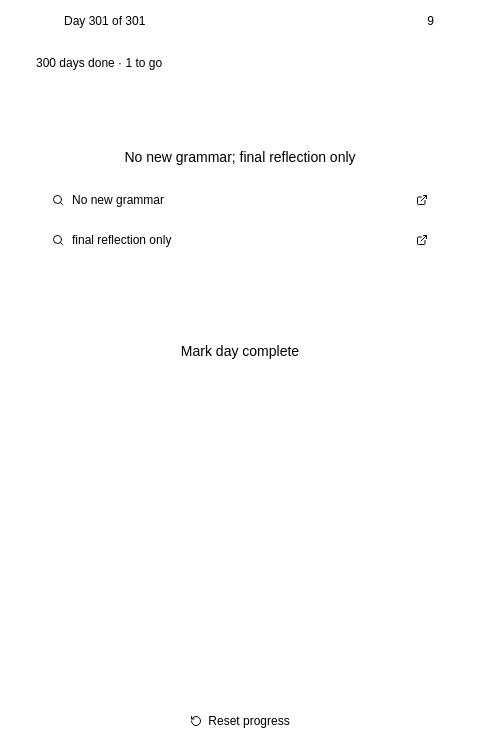
Test case: kwiziq module output › finished plan
The width and height of the screenshot is (481, 745).
What coordinates should you click on to do the following:
click the button "Mark day complete"
I would click on:
 (240, 351)
Its box is 16,327 -> 464,375.
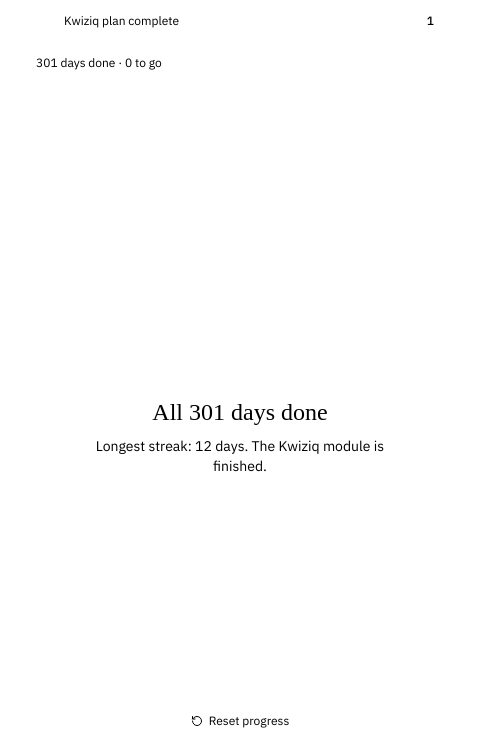
Expected: the text "All 301 days done" is shown, 152,396 -> 328,428
